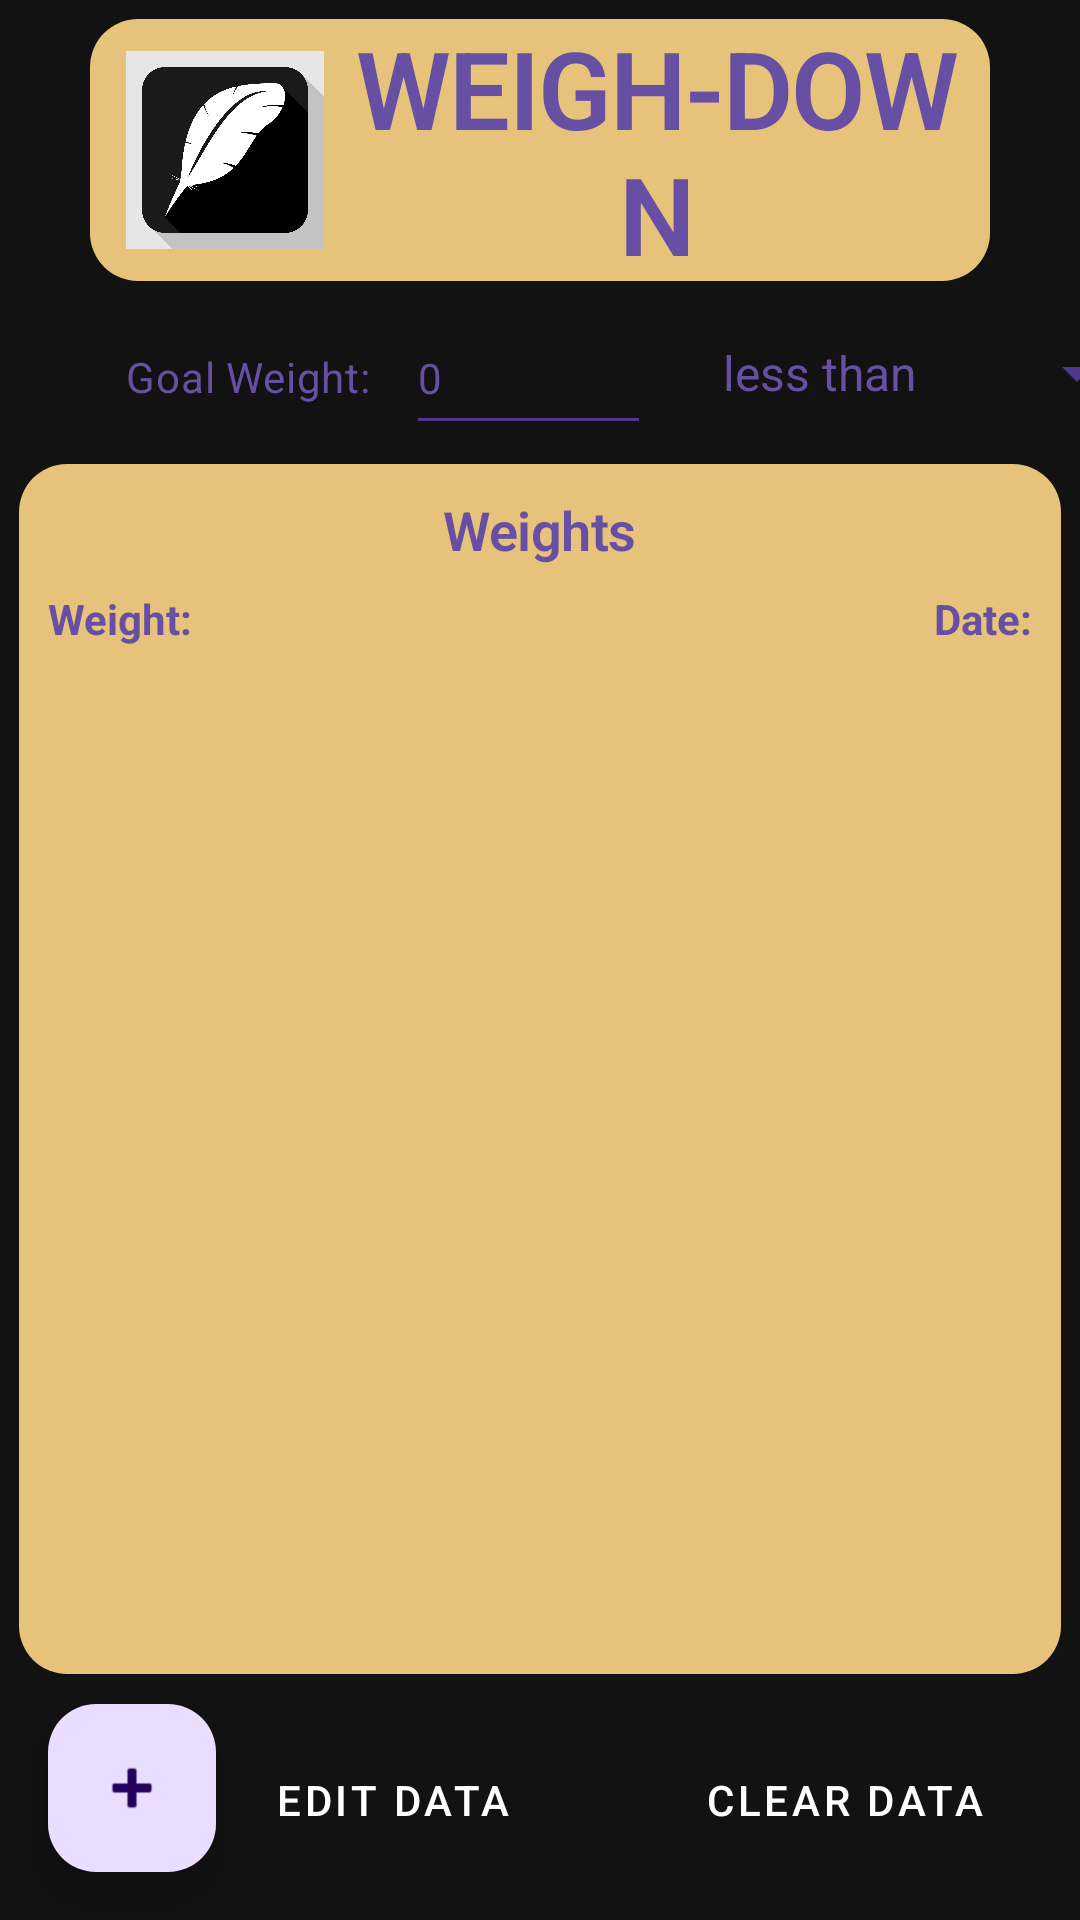

Screen size 1080 × 1920. Icon name, then its center in pixels as (x,y):
A button to add a weight: (132,1788)
